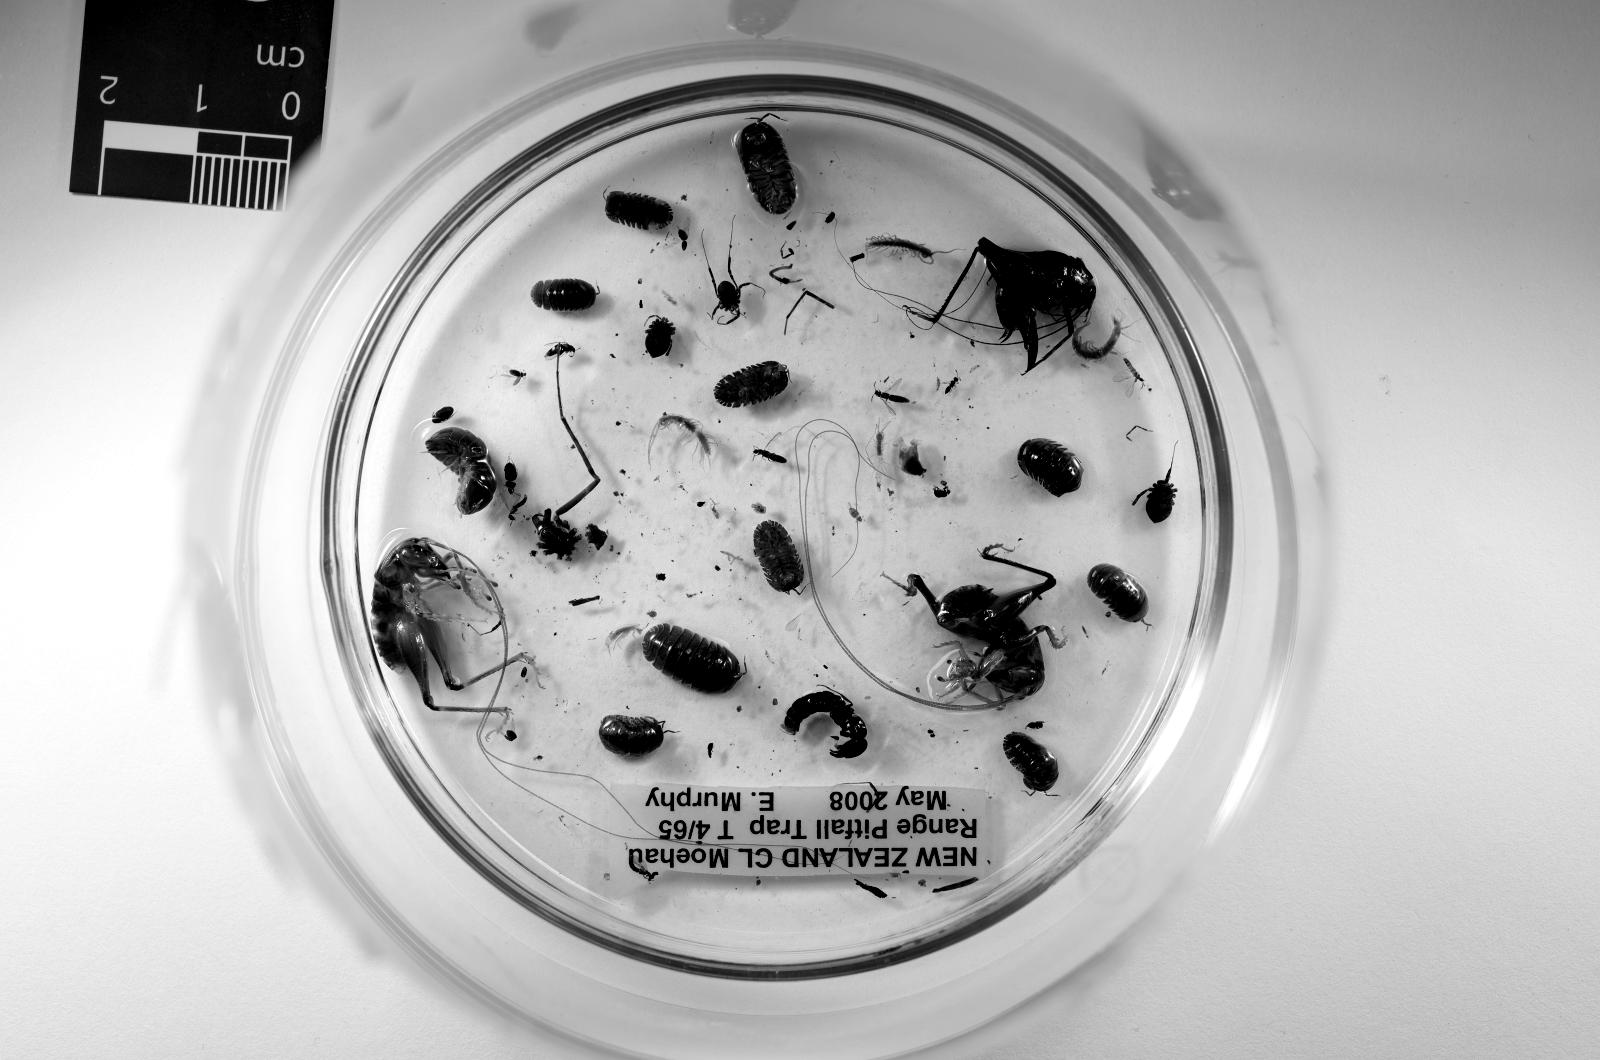chilopoda: (650, 413, 713, 463), (866, 237, 947, 264), (1071, 319, 1122, 360)
coleoptera: (872, 376, 913, 413), (1113, 357, 1147, 394), (546, 342, 577, 361), (753, 447, 788, 463), (503, 463, 519, 493), (510, 497, 529, 522), (432, 407, 453, 426), (503, 369, 525, 386), (850, 506, 862, 522), (706, 742, 713, 757)
diptera: (1028, 720, 1044, 730), (934, 487, 950, 497)
formicidae: (784, 690, 866, 757)
hymenoptera: (944, 376, 959, 394)
isopoda: (643, 625, 744, 696), (425, 428, 497, 516), (738, 118, 797, 214), (1018, 438, 1081, 497), (753, 522, 803, 593), (713, 360, 788, 407), (1003, 733, 1060, 791), (1088, 565, 1147, 621), (600, 715, 666, 757), (607, 193, 672, 230), (531, 279, 597, 310)
opiliones: (710, 245, 750, 323), (1132, 466, 1178, 522), (643, 317, 675, 357)
orthoptera: (371, 537, 535, 717), (903, 547, 1065, 705), (909, 237, 1097, 373)
